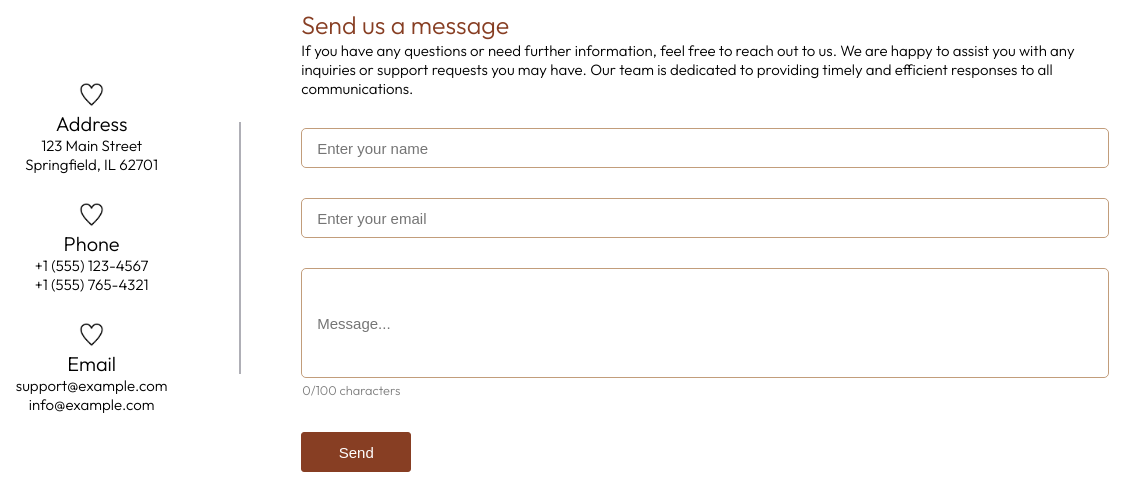
Test: Contact Component › validates the form inputs before submission
Click the button "Send": (356, 452) left=301, top=432, right=411, bottom=472
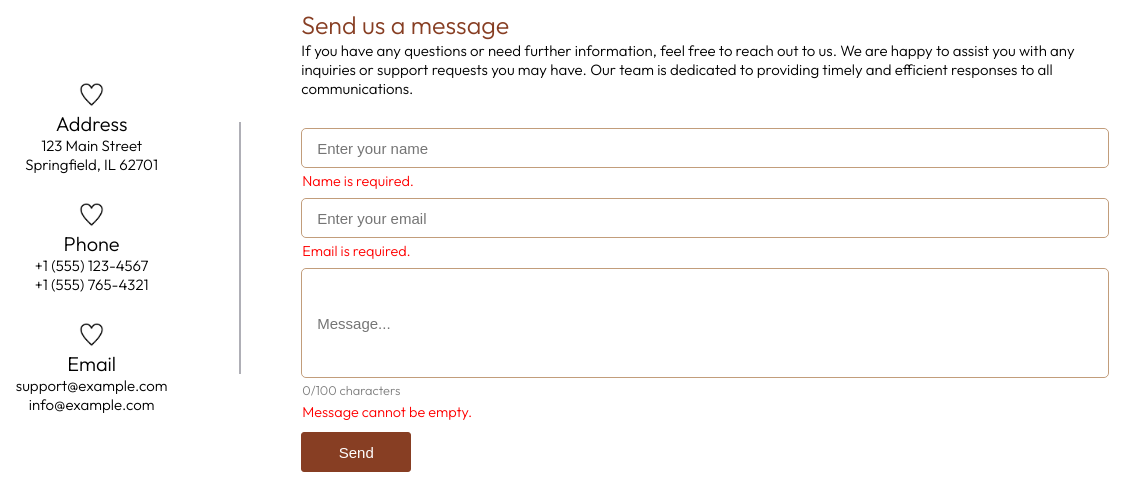
Check: the text "Name is required." is shown, box left=302, top=172, right=414, bottom=190
Check: the text "Email is required." is shown, box left=302, top=242, right=411, bottom=260
Check: the text "Message cannot be empty." is shown, box left=302, top=403, right=472, bottom=421
